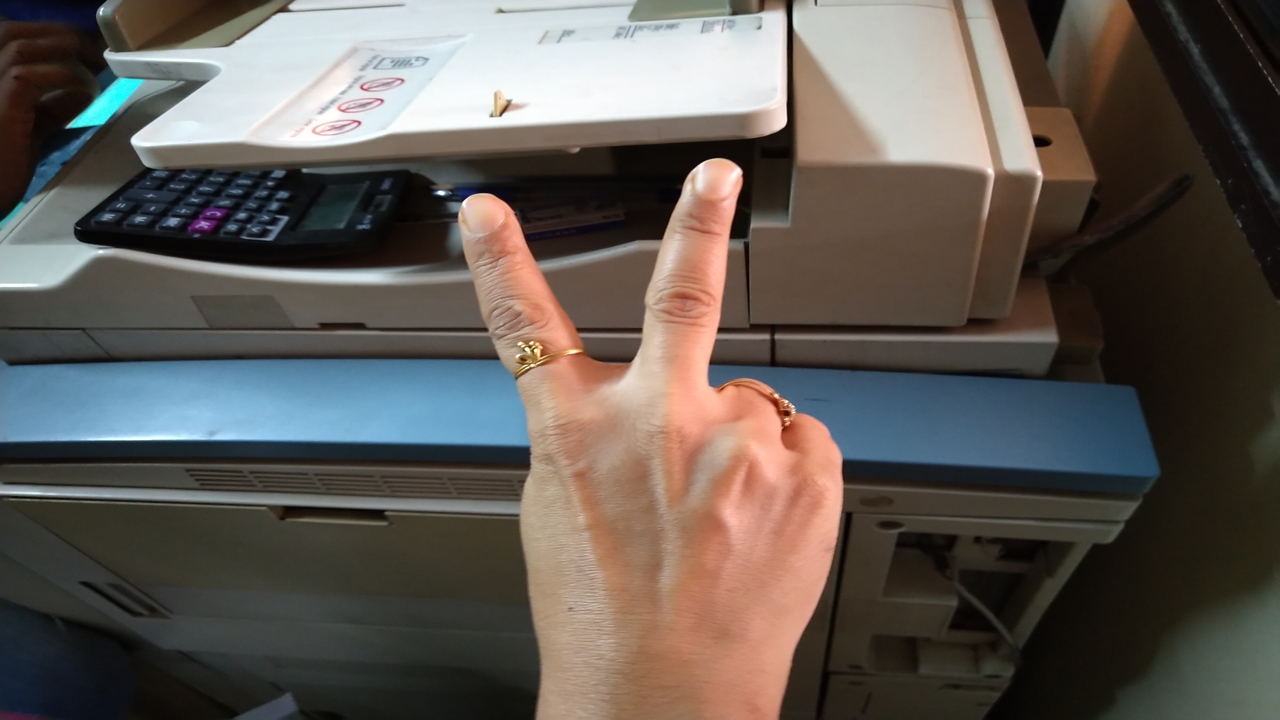fingertip: (444, 186, 524, 254), (676, 148, 744, 216)
